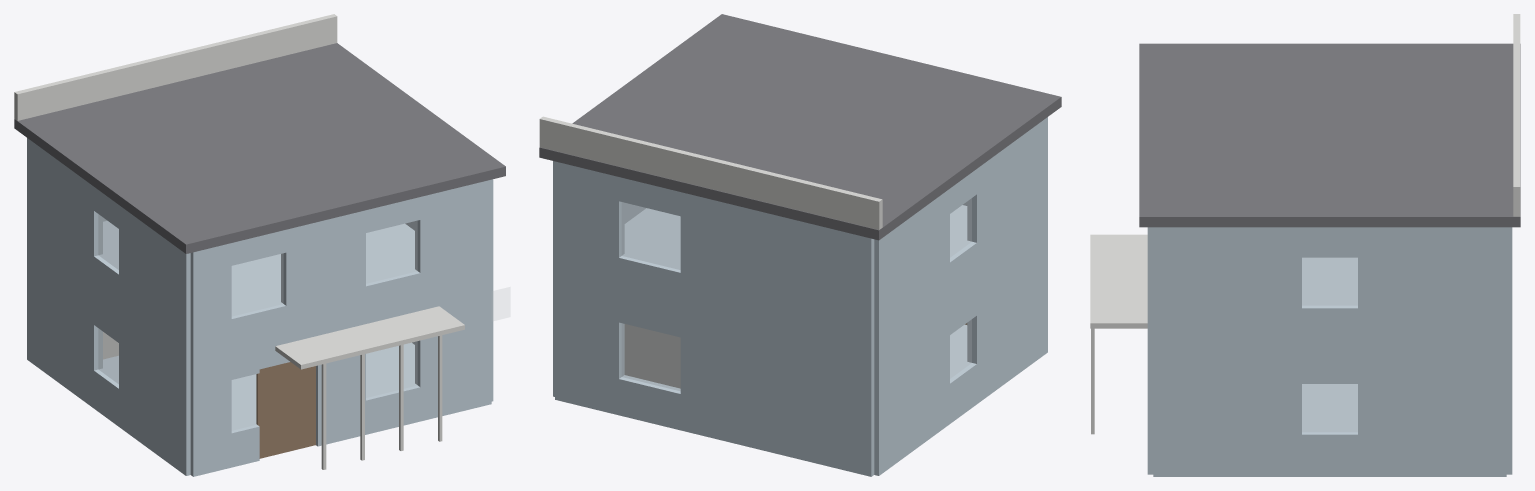
The model's file is shell_03.glb.
The picture shows the model from 3 angles, left to right: view 1: azimuth 30°, elevation 25°; view 2: azimuth 150°, elevation 25°; view 3: azimuth 270°, elevation 25°; orthographic projection. The views are drawn at different scales.
Visible parts, largest first — view 1: Roof, Wall_Front, Wall_Left, RoofRail, Floor_1, Awning, Door_Front, Floor_0, Glass_Front_4, Glass_Front_3, Glass_Front_2, Glass_Front_1 (+8 smaller); view 2: Wall_Back, Roof, Wall_Left, RoofRail, Floor_1, Glass_Back_1, Glass_Back_2, Interior_Wall, Glass_Left_2, Glass_Left_1, Wall_Right, Floor_0; view 3: Wall_Right, Roof, Awning, Glass_Right_1, Glass_Right_2, Floor_1, Floor_0, Wall_Front, Wall_Back, RoofRail.
Boxes of the visible parts, x1,y1,x2,y2 form: Roof: (14, 43, 505, 253); Wall_Front: (190, 179, 491, 476); Wall_Left: (27, 138, 190, 475); RoofRail: (14, 14, 337, 120); Floor_1: (103, 220, 414, 313); Awning: (275, 306, 464, 369); Door_Front: (256, 362, 315, 458); Floor_0: (103, 342, 414, 427); Glass_Front_4: (366, 221, 417, 283); Glass_Front_3: (232, 254, 283, 315); Glass_Front_2: (366, 342, 417, 397); Glass_Front_1: (232, 374, 256, 430); Wall_Back: (555, 161, 874, 476); Roof: (539, 14, 1061, 240); Wall_Left: (874, 117, 1047, 475); RoofRail: (539, 116, 882, 229); Floor_1: (624, 205, 967, 267); Glass_Back_1: (622, 323, 680, 390); Glass_Back_2: (622, 202, 680, 269); Interior_Wall: (624, 324, 680, 388); Glass_Left_2: (950, 198, 971, 256); Glass_Left_1: (950, 320, 971, 378); Wall_Right: (553, 161, 646, 396); Floor_0: (950, 324, 967, 373); Wall_Right: (1153, 227, 1506, 476); Roof: (1139, 43, 1520, 227); Awning: (1090, 234, 1147, 328); Glass_Right_1: (1302, 384, 1357, 431); Glass_Right_2: (1302, 258, 1357, 305); Floor_1: (1302, 257, 1357, 303); Floor_0: (1302, 384, 1357, 429); Wall_Front: (1147, 227, 1153, 474); Wall_Back: (1506, 227, 1512, 474); RoofRail: (1513, 14, 1520, 216).
Size of the model in its own units: 9.1 by 6.95 by 9.23.
